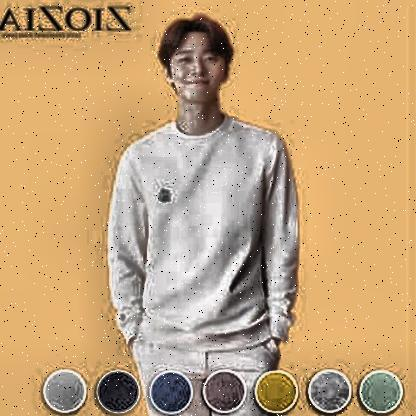sweater: (104, 112, 302, 350)
trousers: (130, 341, 281, 416)
